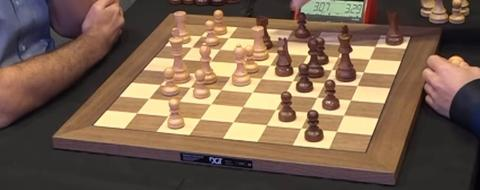xcorner: (372, 44, 377, 49), (341, 42, 346, 47), (311, 40, 316, 45), (282, 38, 287, 43), (253, 36, 258, 41), (225, 34, 230, 39), (197, 33, 202, 38), (366, 56, 371, 61), (335, 54, 340, 59), (304, 52, 309, 57), (274, 50, 279, 55), (245, 48, 250, 53), (216, 46, 221, 51), (188, 44, 193, 49), (360, 69, 365, 74), (328, 67, 333, 72), (266, 62, 271, 67), (236, 60, 241, 65), (207, 58, 212, 63), (178, 56, 183, 61), (354, 83, 359, 88), (289, 78, 294, 83), (257, 76, 262, 81), (227, 73, 232, 78), (197, 71, 202, 76), (347, 98, 352, 103), (313, 95, 318, 100), (280, 92, 285, 97), (248, 89, 253, 94), (217, 87, 222, 92), (157, 82, 162, 87), (340, 113, 345, 118), (305, 110, 310, 115), (272, 107, 277, 112), (239, 104, 244, 109), (207, 101, 212, 106), (176, 98, 181, 103), (332, 129, 337, 134), (297, 126, 302, 131), (229, 119, 234, 124), (196, 116, 201, 121), (164, 113, 169, 118), (133, 110, 138, 115), (297, 65, 301, 70), (321, 81, 326, 85), (187, 84, 191, 89), (145, 96, 150, 100), (168, 69, 172, 73), (263, 123, 267, 127)
